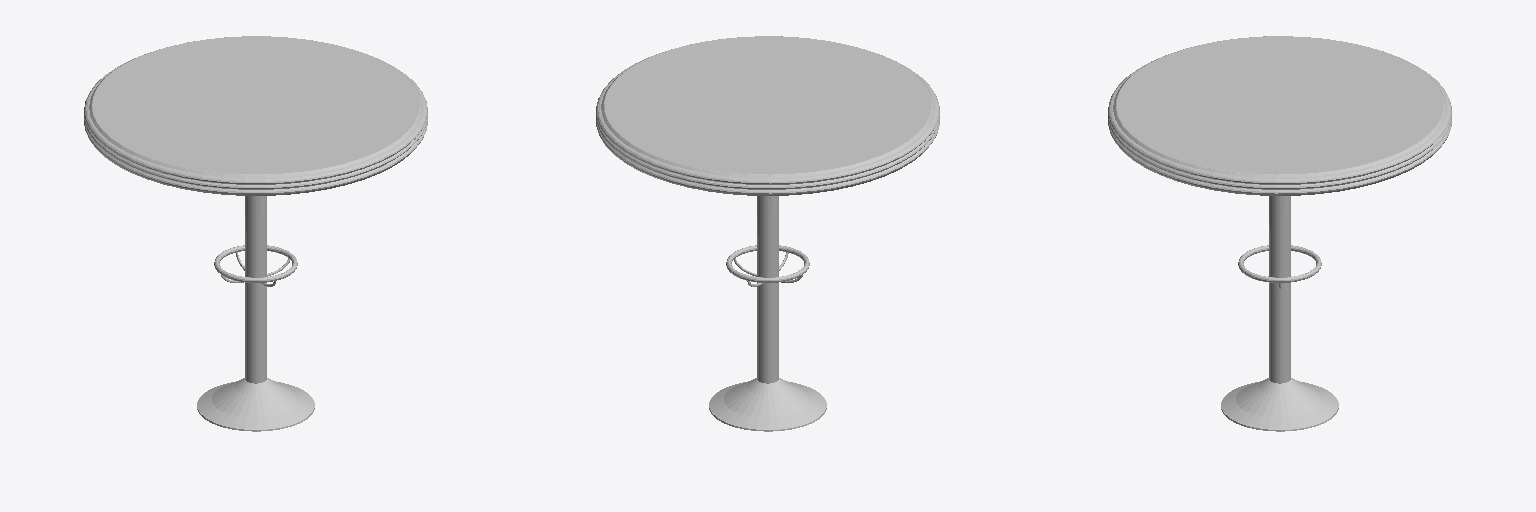
File: Bar_Table.obj
3 renders of one model, left to right at view 1: azimuth 30°, elevation 25°; view 2: azimuth 150°, elevation 25°; view 3: azimuth 270°, elevation 25°, orthographic.
Visible parts, largest first — view 1: mesh0; view 2: mesh0; view 3: mesh0.
Part boxes in pixels (bbox=[...]): mesh0: bbox=[84, 36, 427, 431]; mesh0: bbox=[596, 36, 939, 431]; mesh0: bbox=[1108, 36, 1451, 431].
Bounding box in the file's own units: 85.83 × 82.85 × 85.79.